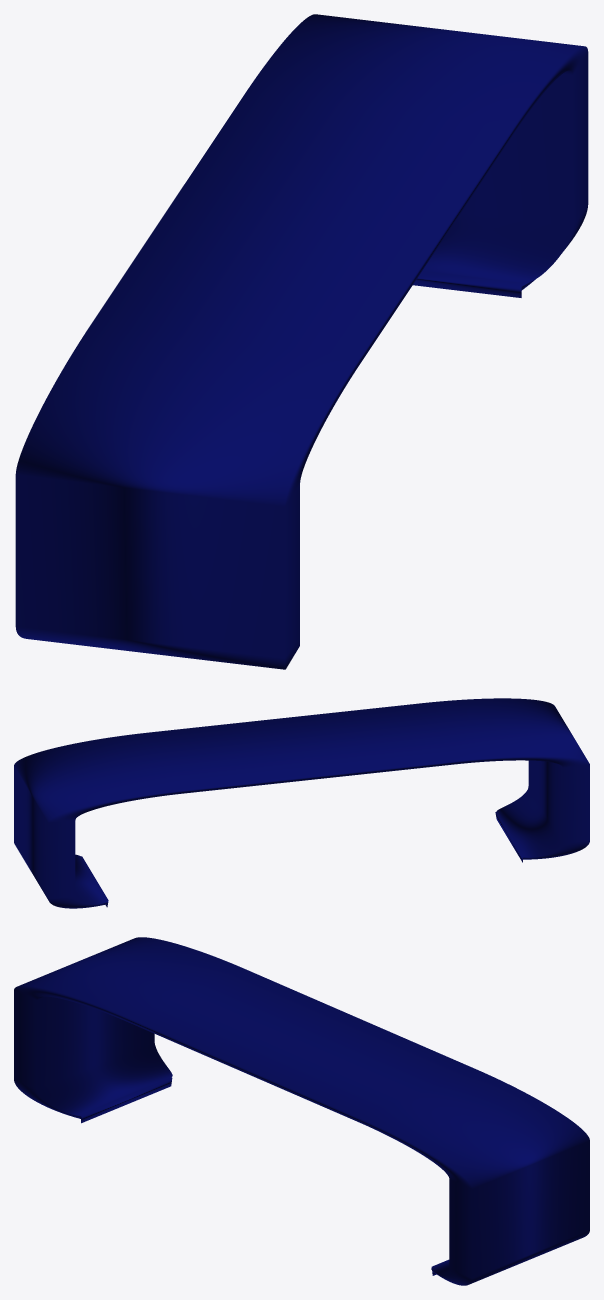
The model's file is JudgeTable.fbx.
The picture shows the model from 3 angles, top to bottom: view 1: azimuth 30°, elevation 25°; view 2: azimuth 150°, elevation 25°; view 3: azimuth 270°, elevation 25°; orthographic projection. The views are drawn at different scales.
Parts seen in each view (by area): view 1: Plane; view 2: Plane; view 3: Plane.
Part boxes in pixels (<box>): Plane: <box>15,14,588,669</box>; Plane: <box>14,698,589,908</box>; Plane: <box>14,937,589,1285</box>.
Bounding box in the file's own units: 709 × 184 × 698.
